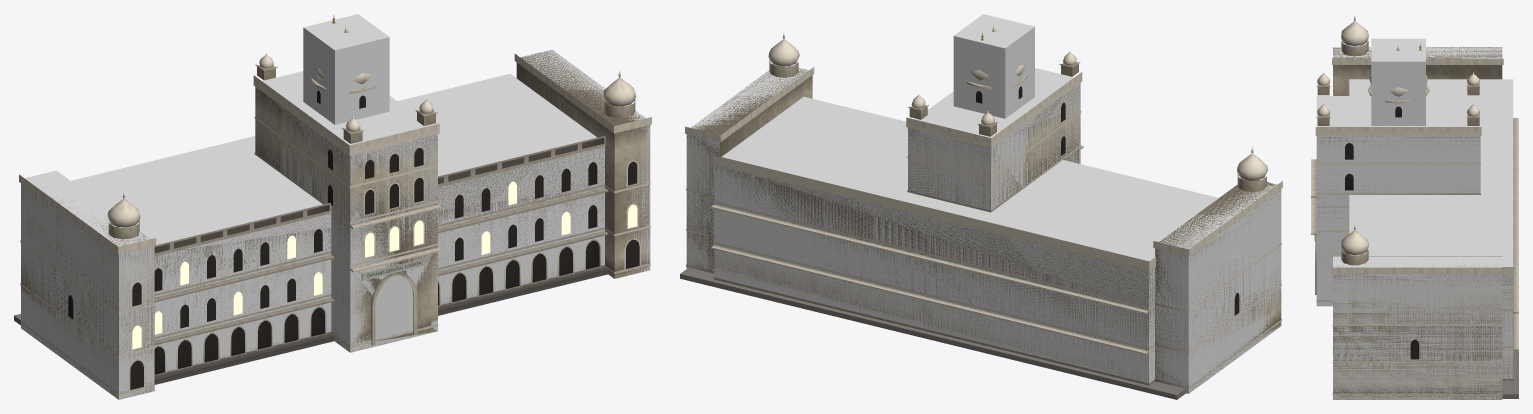
Rendered from osmania_hospital.glb.
The picture shows the model from 3 angles, left to right: view 1: azimuth 30°, elevation 25°; view 2: azimuth 150°, elevation 25°; view 3: azimuth 270°, elevation 25°; orthographic projection. The views are drawn at different scales.
Parts seen in each view (by area): view 1: COL_osmania_hospital, osmania_hospital_body; view 2: COL_osmania_hospital, osmania_hospital_body; view 3: COL_osmania_hospital, osmania_hospital_body.
Boxes of the visible parts, left/top/right/bottom form: COL_osmania_hospital: left=21, top=14, right=650, bottom=399; osmania_hospital_body: left=14, top=15, right=651, bottom=398; COL_osmania_hospital: left=686, top=14, right=1281, bottom=393; osmania_hospital_body: left=680, top=23, right=1282, bottom=399; COL_osmania_hospital: left=1316, top=38, right=1513, bottom=399; osmania_hospital_body: left=1311, top=14, right=1518, bottom=399.
Bounding box in the file's own units: 195 × 99.3 × 76.
8 materials, 8 textured.
